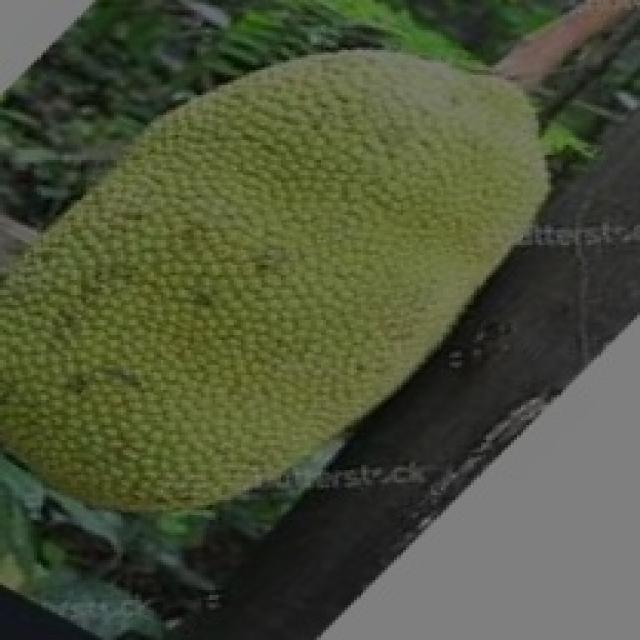Fruit: (222, 15, 582, 407)
